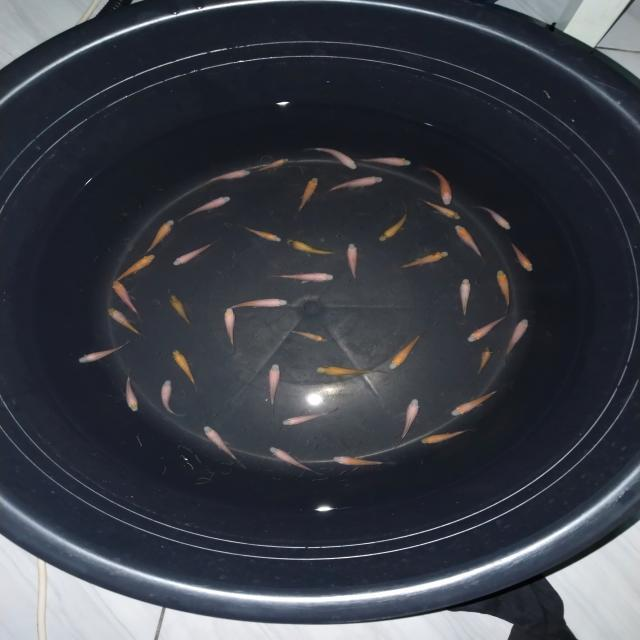nila: (268, 442, 320, 480), (200, 423, 242, 467), (75, 339, 135, 367), (448, 386, 500, 418), (168, 346, 202, 394), (389, 328, 427, 369), (180, 194, 231, 224), (448, 223, 487, 260), (462, 313, 509, 343), (111, 277, 142, 322), (376, 204, 411, 243), (307, 144, 359, 170), (396, 396, 422, 447), (114, 252, 158, 282), (278, 406, 338, 428), (426, 166, 458, 206), (106, 304, 142, 338), (328, 449, 392, 468), (328, 174, 390, 193), (504, 315, 530, 359), (146, 217, 176, 255), (480, 202, 518, 232), (398, 248, 449, 270), (172, 240, 212, 268), (490, 268, 514, 314), (418, 197, 462, 222), (158, 378, 186, 417), (419, 426, 472, 446), (274, 270, 336, 287), (313, 364, 379, 379), (294, 176, 320, 214), (228, 295, 289, 311), (286, 238, 336, 257), (508, 240, 536, 273), (122, 368, 142, 414), (168, 292, 194, 324), (266, 363, 284, 408), (343, 241, 362, 282), (221, 306, 238, 350), (243, 225, 281, 244), (472, 344, 492, 379), (457, 276, 472, 320), (257, 156, 289, 176), (290, 328, 329, 344), (363, 155, 414, 166), (210, 168, 250, 182)
